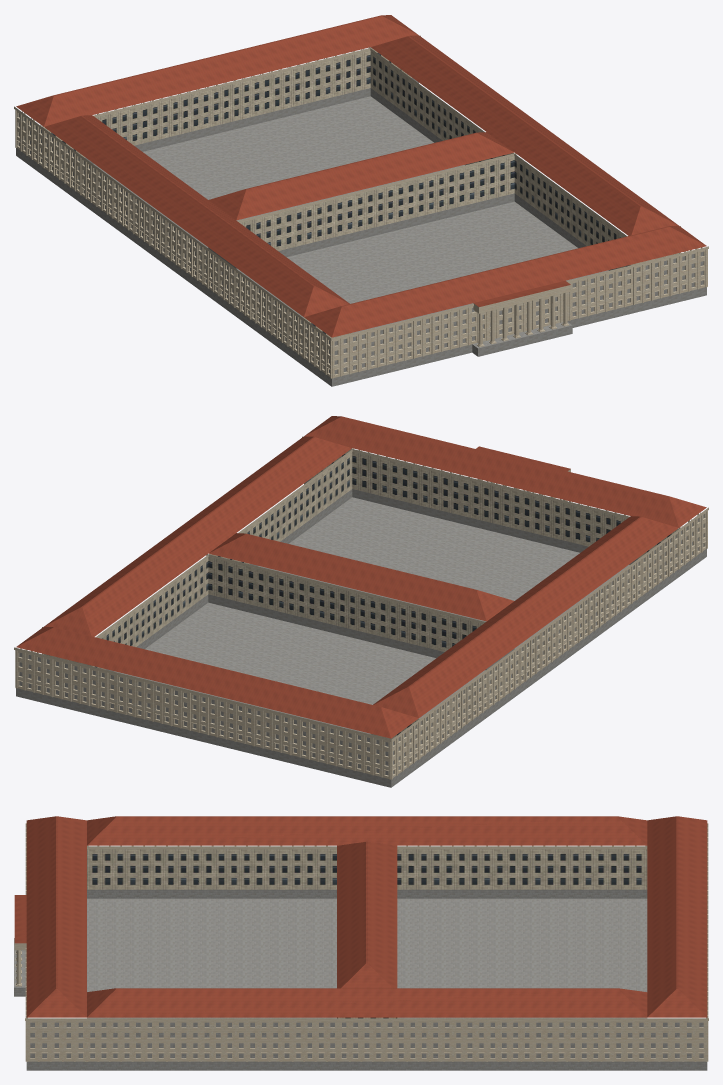
File: irs_building.glb
The picture shows the model from 3 angles, top to bottom: view 1: azimuth 30°, elevation 25°; view 2: azimuth 150°, elevation 25°; view 3: azimuth 270°, elevation 25°; orthographic projection. The views are drawn at different scales.
Parts seen in each view (by area): view 1: irs_building; view 2: irs_building; view 3: irs_building.
Part boxes in pixels (x1,y1,x2,y2): irs_building: [14, 15, 708, 386]; irs_building: [14, 416, 708, 787]; irs_building: [14, 816, 708, 1070].
Size of the model in its own units: 156 by 25.4 by 231.
Materials: 4 (4 with a texture image).
